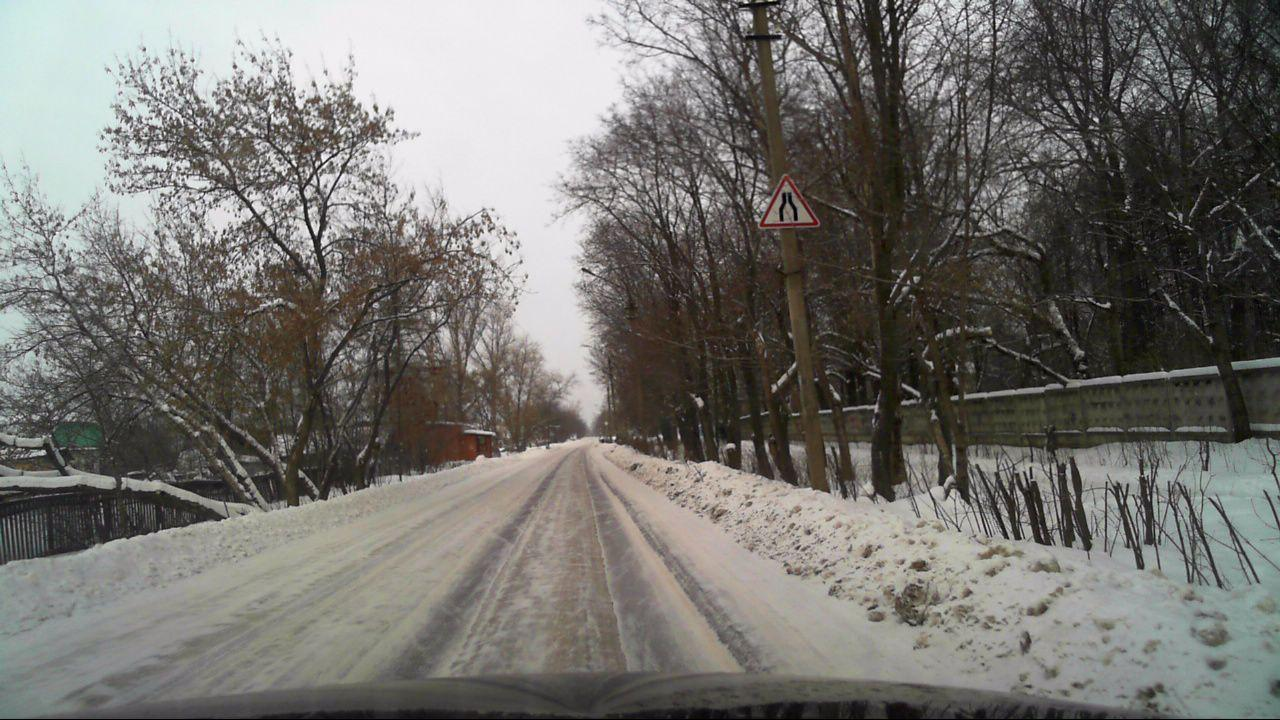1_20_1: (758, 174, 819, 229)
